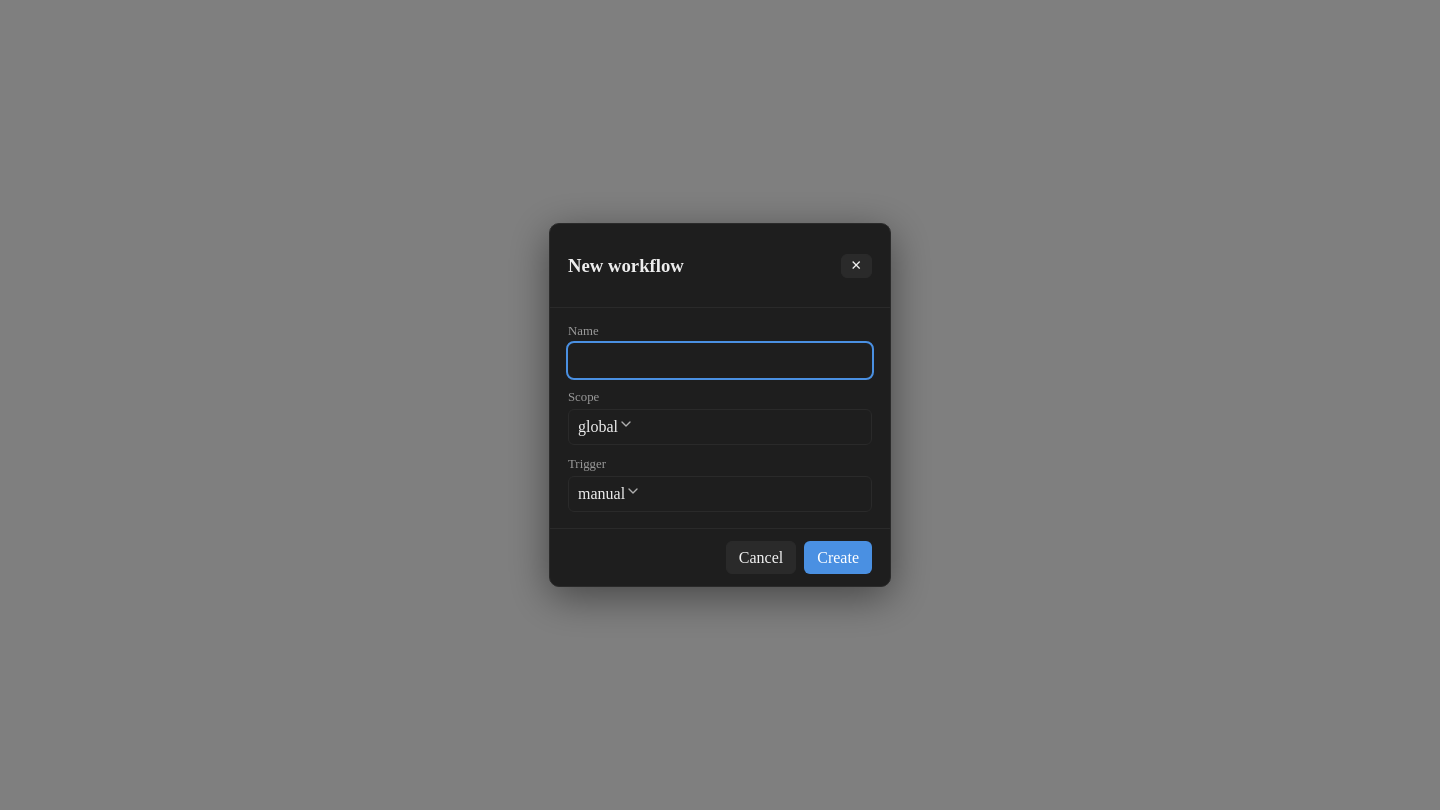
NewWorkflowModal › surfaces a create rejection and does not report success
Type "Dup" into the field labelled "Name".
click(720, 361); type("Dup")  # box [568,343,872,378]
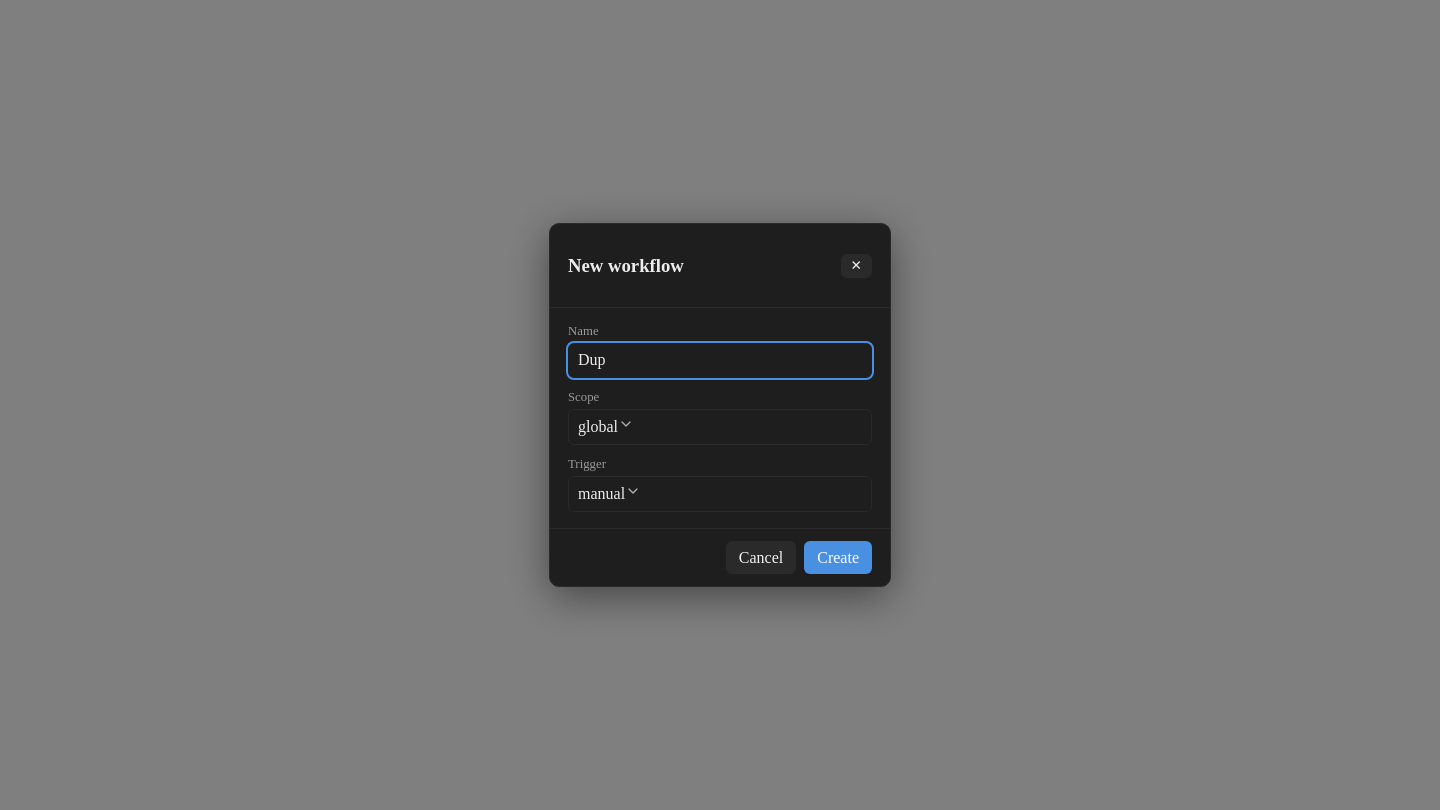
Click the button "Create".
click(838, 557)  # box [804,541,872,574]
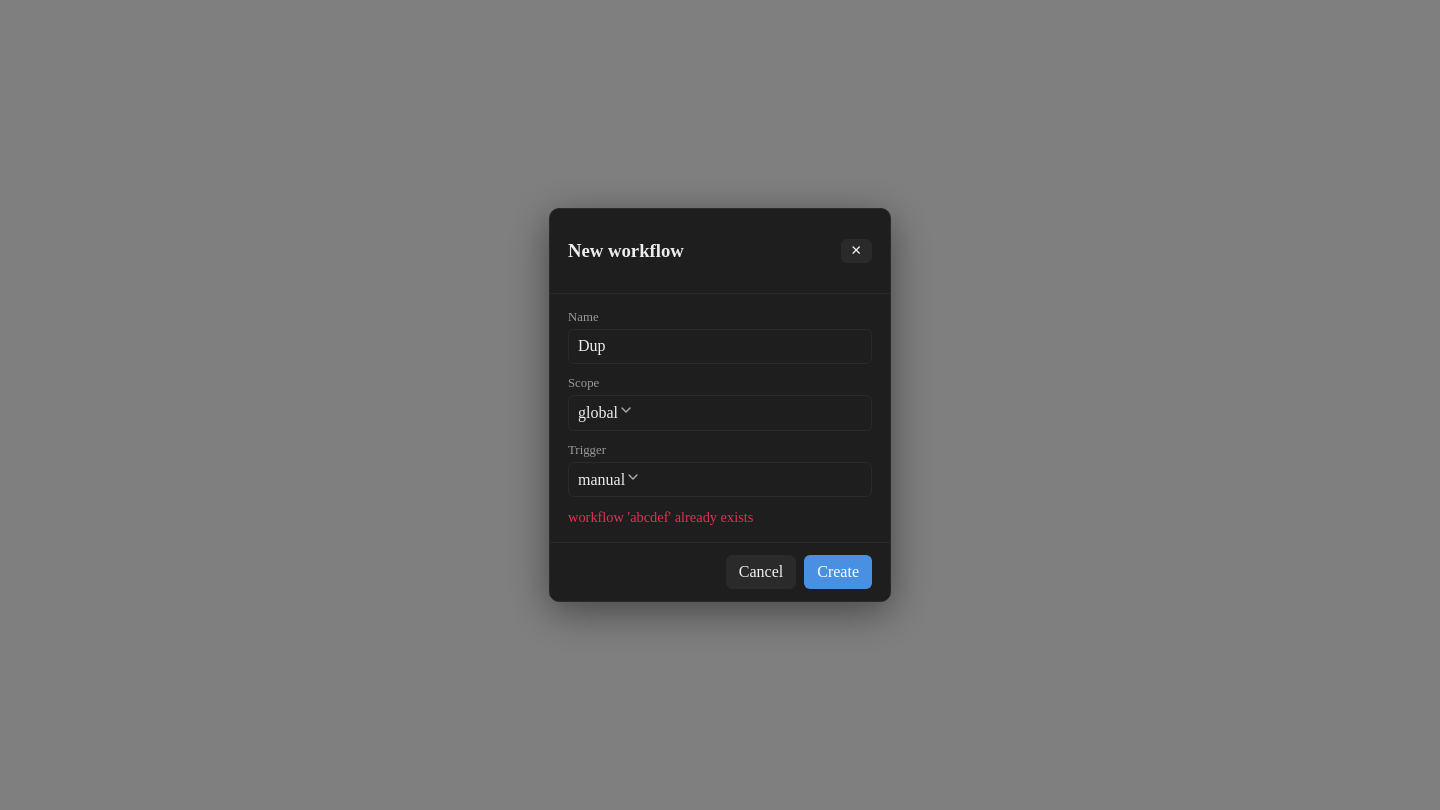
Expected: the message "workflow 'abcdef' already exists" is shown, [568,509,753,525]
